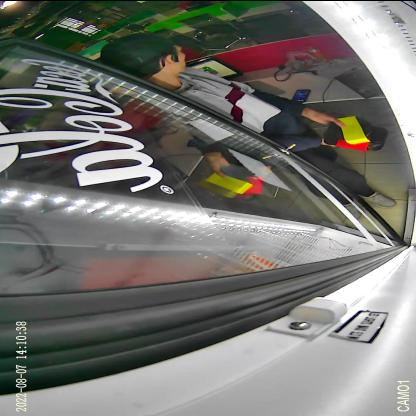red: (323, 121, 390, 151)
yellow: (327, 115, 372, 143)
